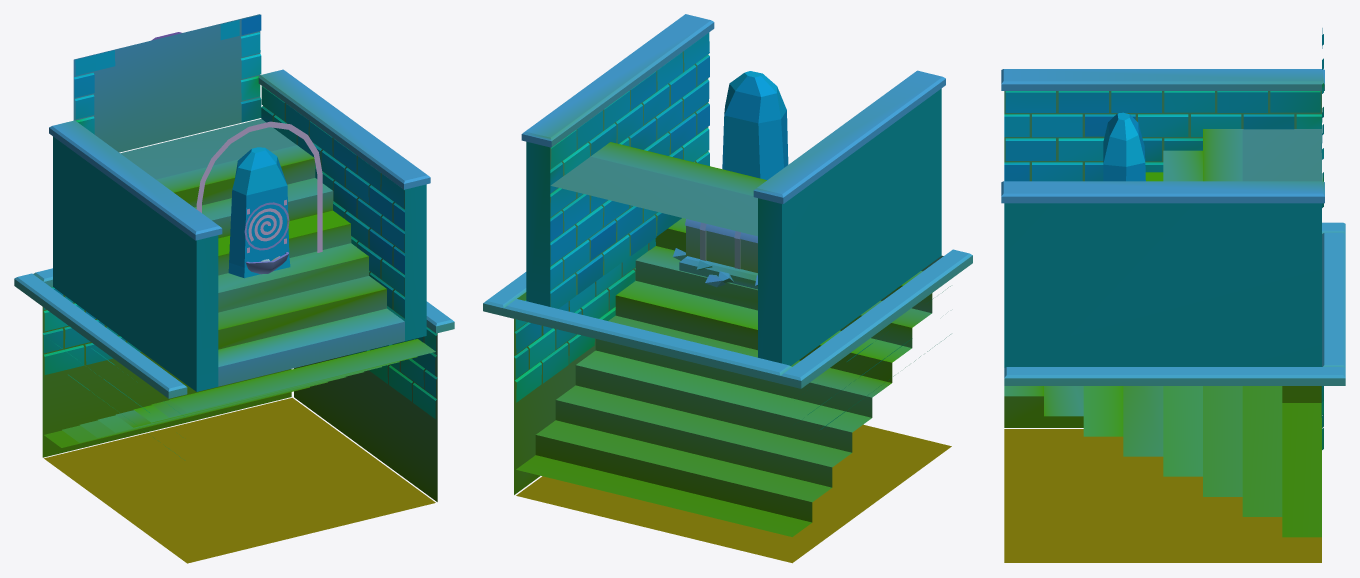
File: kit_shared.glb
3 views of the same model, side by side, from view 1: azimuth 30°, elevation 25°; view 2: azimuth 150°, elevation 25°; view 3: azimuth 270°, elevation 25° (orthographic). The views are drawn at different scales.
Parts seen in each view (by area): view 1: shr_stairs_up, shr_stairs_down, shr_waystone, shr_door_frame_fx; view 2: shr_stairs_down, shr_stairs_up, shr_waystone, shr_chest_large; view 3: shr_stairs_up, shr_stairs_down, shr_waystone.
Part boxes in pixels (left/top/right/bottom): shr_stairs_up: left=49, top=14, right=430, bottom=391; shr_stairs_down: left=14, top=268, right=454, bottom=563; shr_waystone: left=228, top=147, right=290, bottom=278; shr_door_frame_fx: left=196, top=121, right=322, bottom=252; shr_stairs_down: left=483, top=218, right=972, bottom=563; shr_stairs_up: left=521, top=14, right=945, bottom=365; shr_waystone: left=673, top=71, right=788, bottom=289; shr_chest_large: left=686, top=226, right=757, bottom=272; shr_stairs_up: left=1001, top=28, right=1324, bottom=367; shr_stairs_down: left=1004, top=222, right=1345, bottom=562; shr_waystone: left=1103, top=112, right=1145, bottom=181.
Bounding box in the file's own units: 4.6 × 6.03 × 4.34.
